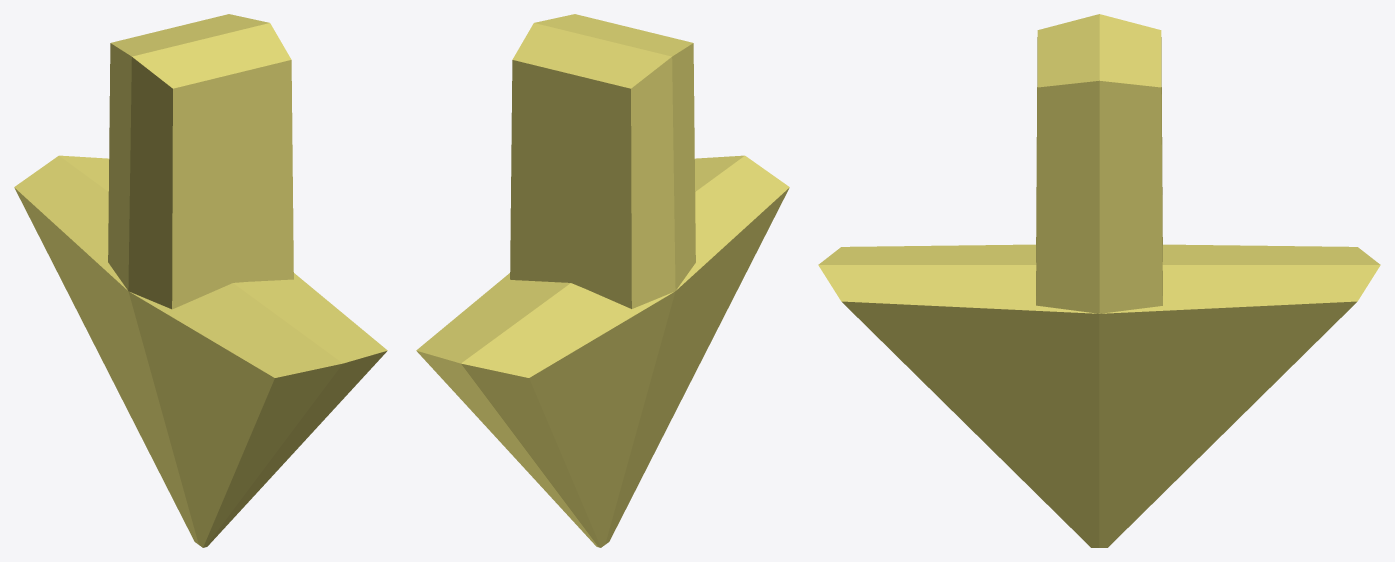
The model's file is arrow_animated.fbx.
3 renders of one model, left to right at view 1: azimuth 30°, elevation 25°; view 2: azimuth 150°, elevation 25°; view 3: azimuth 270°, elevation 25°, orthographic.
Parts seen in each view (by area): view 1: Cube.001; view 2: Cube.001; view 3: Cube.001.
Boxes of the visible parts, x1=… form: Cube.001: x1=14, y1=14, x2=387, y2=547; Cube.001: x1=416, y1=14, x2=789, y2=547; Cube.001: x1=818, y1=14, x2=1380, y2=547.
Bounding box in the file's own units: 141 × 469 × 479.
